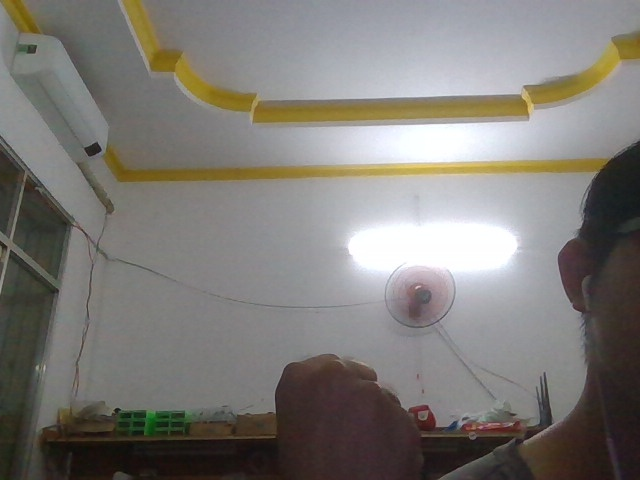fist: (236, 339, 439, 480)
